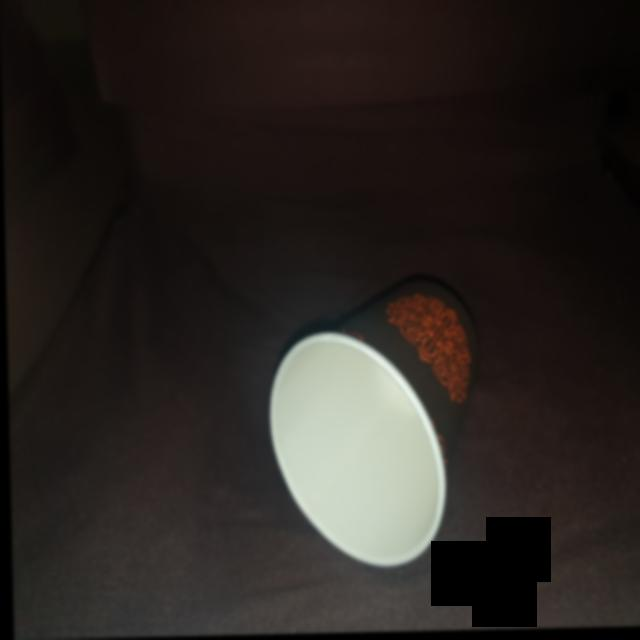cups: (257, 265, 488, 579)
